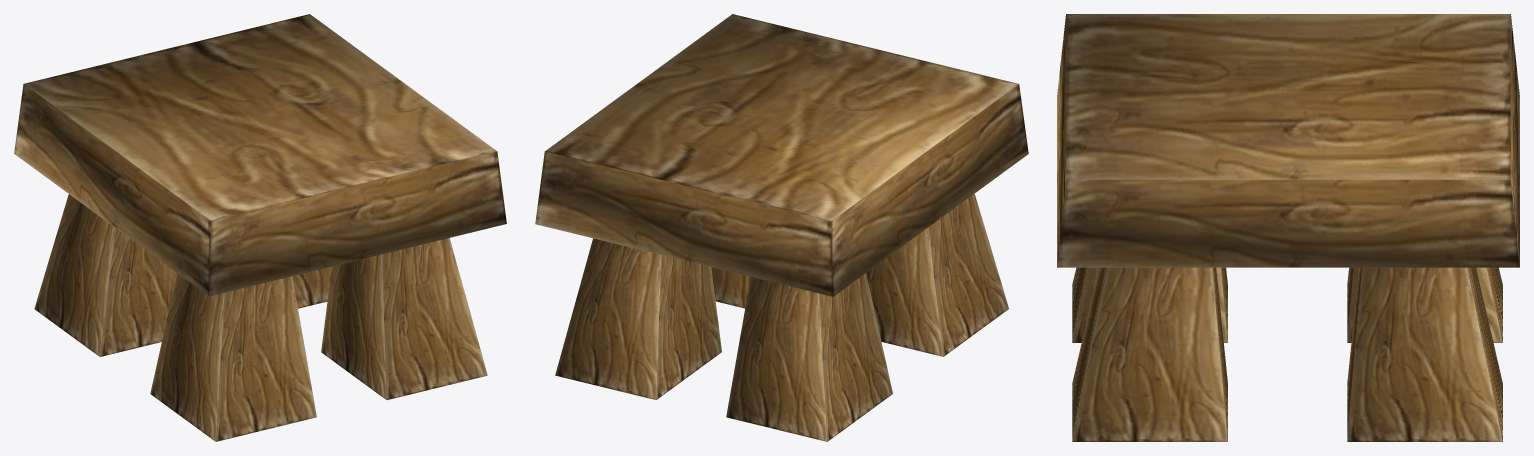
File: inntabletiny.glb
The picture shows the model from 3 angles, left to right: view 1: azimuth 30°, elevation 25°; view 2: azimuth 150°, elevation 25°; view 3: azimuth 270°, elevation 25°; orthographic projection. The views are drawn at different scales.
Size of the model in its own units: 1.56 by 1.12 by 1.77.
Materials: 1 (1 with a texture image).
